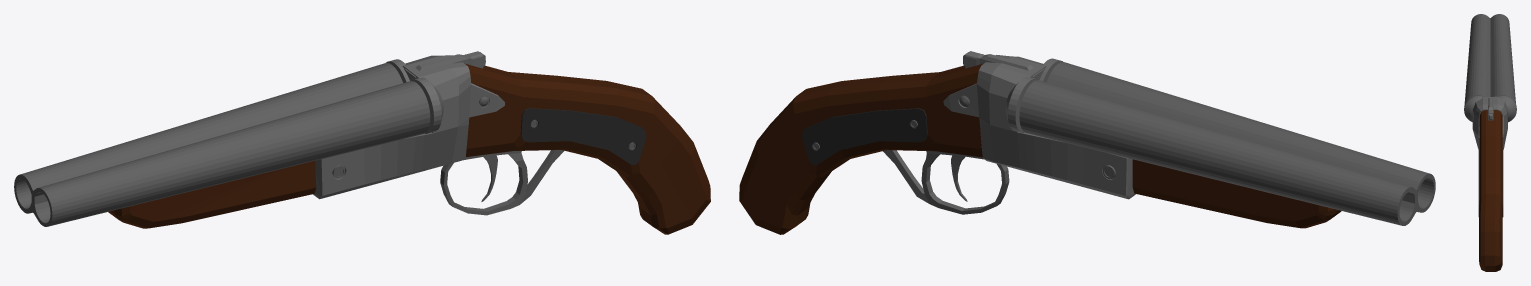
The model's file is 2PartGun.fbx.
The picture shows the model from 3 angles, left to right: view 1: azimuth 30°, elevation 25°; view 2: azimuth 150°, elevation 25°; view 3: azimuth 270°, elevation 25°; orthographic projection. The views are drawn at different scales.
Parts seen in each view (by area): view 1: uploads_files_3983773_Viking:polySurface2, uploads_files_3983773_Viking:polySurface3; view 2: uploads_files_3983773_Viking:polySurface2, uploads_files_3983773_Viking:polySurface3; view 3: uploads_files_3983773_Viking:polySurface3, uploads_files_3983773_Viking:polySurface2.
Boxes of the visible parts, box(x1,y1,x2,y2) form: uploads_files_3983773_Viking:polySurface2: box(14, 63, 430, 228); uploads_files_3983773_Viking:polySurface3: box(313, 51, 710, 234); uploads_files_3983773_Viking:polySurface2: box(1019, 62, 1435, 228); uploads_files_3983773_Viking:polySurface3: box(739, 51, 1135, 234); uploads_files_3983773_Viking:polySurface3: box(1464, 95, 1516, 271); uploads_files_3983773_Viking:polySurface2: box(1464, 14, 1515, 104).
Bounding box in the file's own units: 1.42 × 0.4531 × 0.1932.
